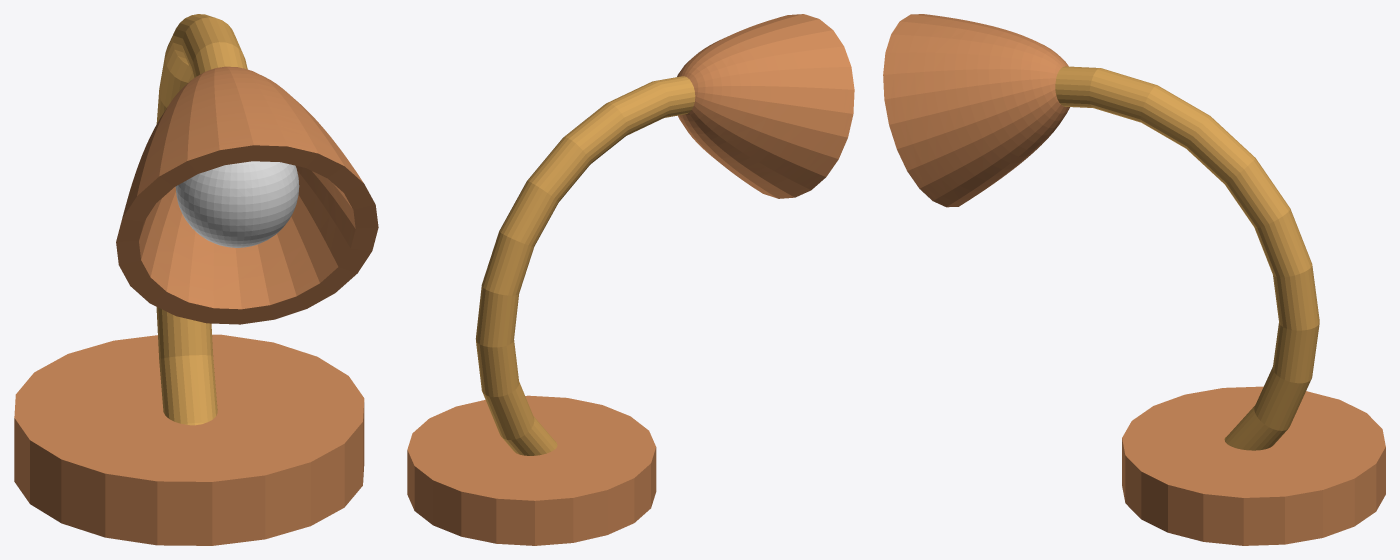
File: lamp.glb
3 renders of one model, left to right at view 1: azimuth 30°, elevation 25°; view 2: azimuth 150°, elevation 25°; view 3: azimuth 270°, elevation 25°, orthographic. The views are drawn at different scales.
Parts seen in each view (by area): view 1: Mesh_Mesh_head_geo.001_lambert2SG.001; view 2: Mesh_Mesh_head_geo.001_lambert2SG.001; view 3: Mesh_Mesh_head_geo.001_lambert2SG.001.
Part boxes in pixels (<box>): Mesh_Mesh_head_geo.001_lambert2SG.001: <box>14,14,378,545</box>; Mesh_Mesh_head_geo.001_lambert2SG.001: <box>407,14,854,545</box>; Mesh_Mesh_head_geo.001_lambert2SG.001: <box>883,14,1385,545</box>.
Size of the model in its own units: 5.42 by 6.83 by 7.6.
